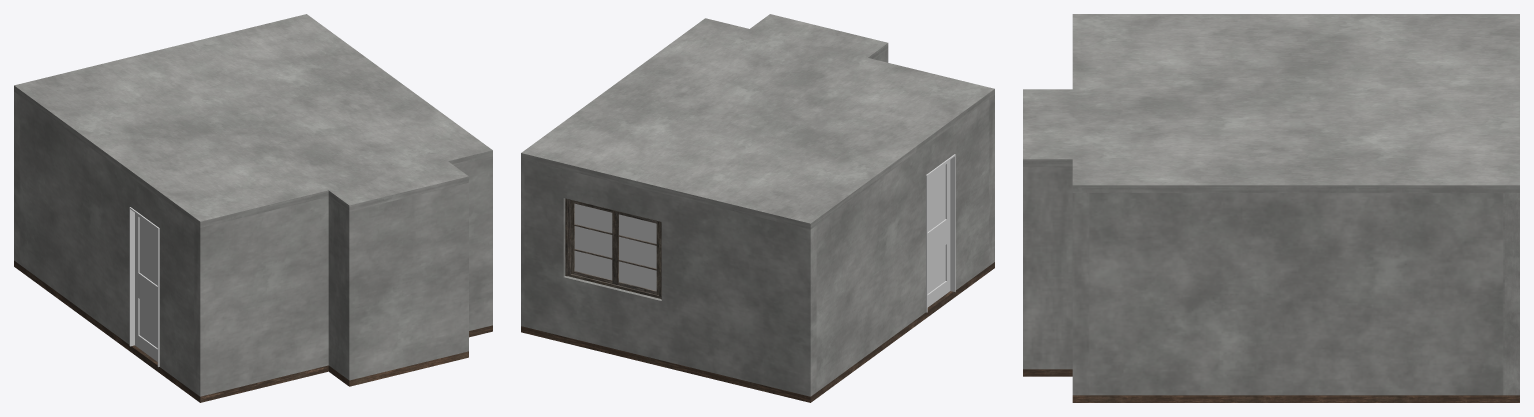
File: BedRoom.fbx
The picture shows the model from 3 angles, left to right: view 1: azimuth 30°, elevation 25°; view 2: azimuth 150°, elevation 25°; view 3: azimuth 270°, elevation 25°; orthographic projection. The views are drawn at different scales.
Parts seen in each view (by area): view 1: Soffitto, Parete Cucina, Parete Ingresso, Pavimento, Porta, Telaio Porta, Parete Letto; view 2: Soffitto, Parete Letto, Parete Ingresso, Finestra, Pavimento, Porta, Parete Cucina, Telaio Porta, Telaio Esterno Finestra; view 3: Parete Schermo, Soffitto, Parete Cucina, Pavimento, Parete Letto.
Part boxes in pixels (x1,y1,x2,y2): Soffitto: [14, 14, 492, 227]; Parete Cucina: [193, 156, 492, 396]; Parete Ingresso: [21, 97, 193, 391]; Pavimento: [14, 260, 492, 402]; Porta: [135, 213, 157, 361]; Telaio Porta: [129, 207, 159, 366]; Parete Letto: [14, 92, 20, 264]; Soffitto: [521, 14, 994, 229]; Parete Letto: [521, 159, 817, 396]; Parete Ingresso: [817, 100, 987, 391]; Finestra: [571, 200, 658, 295]; Pavimento: [521, 262, 994, 402]; Porta: [927, 160, 950, 307]; Parete Cucina: [874, 49, 994, 266]; Telaio Porta: [926, 154, 955, 312]; Telaio Esterno Finestra: [565, 198, 661, 299]; Parete Schermo: [1089, 193, 1503, 395]; Soffitto: [1023, 14, 1519, 192]; Parete Cucina: [1023, 166, 1089, 395]; Pavimento: [1023, 369, 1519, 402]; Parete Letto: [1503, 193, 1519, 395].
Bounding box in the file's own units: 492 × 290 × 600.
